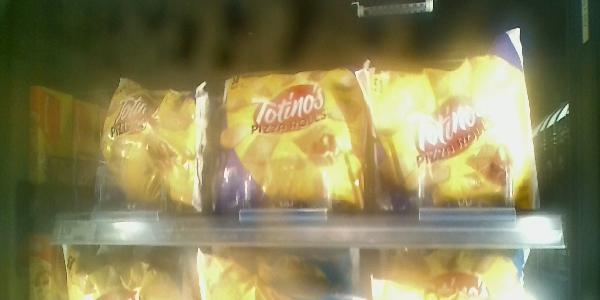icecream: (363, 53, 548, 221), (219, 65, 369, 232), (92, 78, 219, 221)
